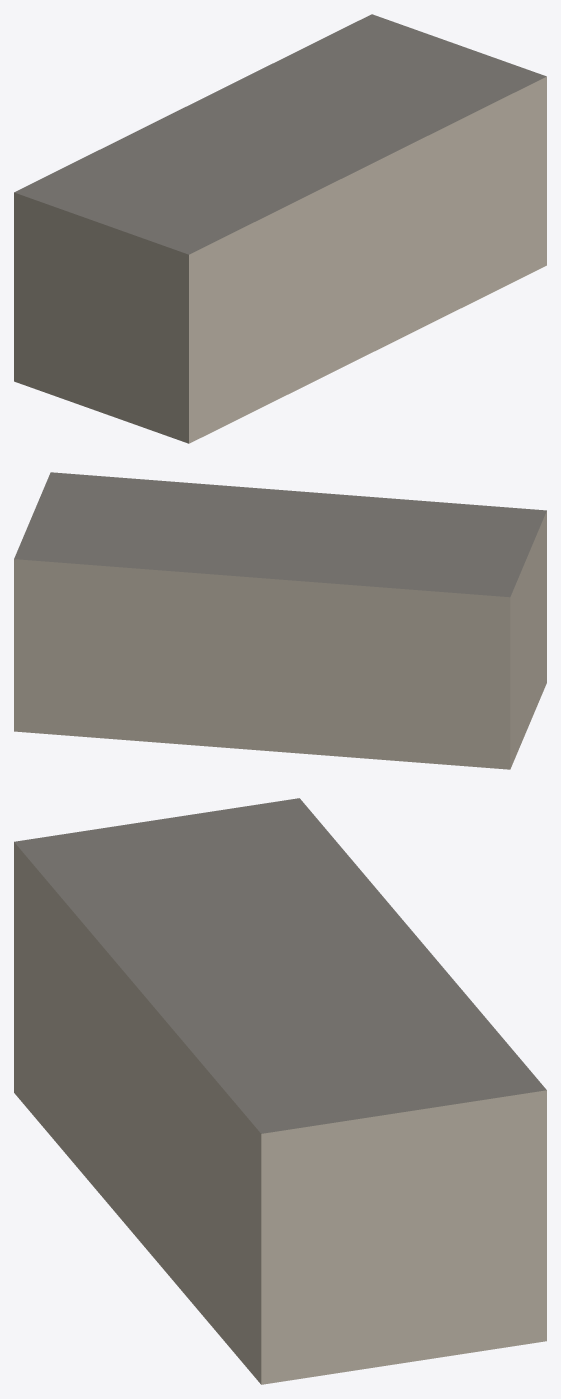
3 views of the same model, one above another, from view 1: azimuth 30°, elevation 25°; view 2: azimuth 150°, elevation 25°; view 3: azimuth 270°, elevation 25° (orthographic). The views are drawn at different scales.
Parts seen in each view (by area): view 1: HP-w378107186; view 2: HP-w378107186; view 3: HP-w378107186.
Part boxes in pixels (box(x1,y1,x2,y2)): HP-w378107186: box(14, 14, 546, 443); HP-w378107186: box(14, 472, 546, 769); HP-w378107186: box(14, 798, 546, 1384).
Size of the model in its own units: 51.65 by 18 by 34.65.
